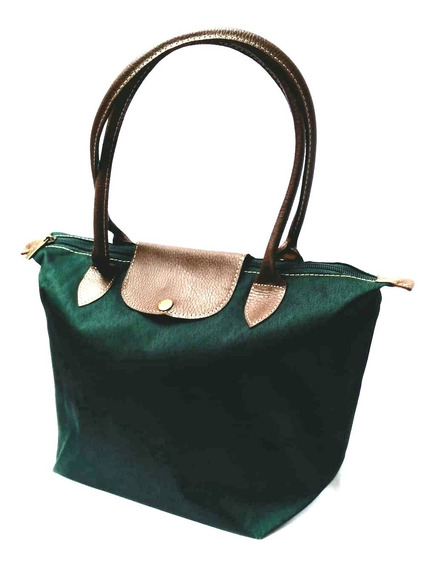cartera: (25, 25, 420, 542)
